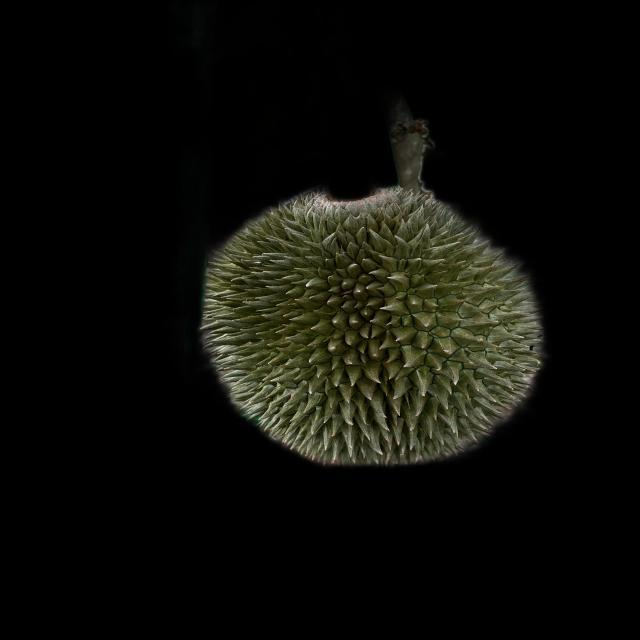immature: (192, 184, 550, 465)
